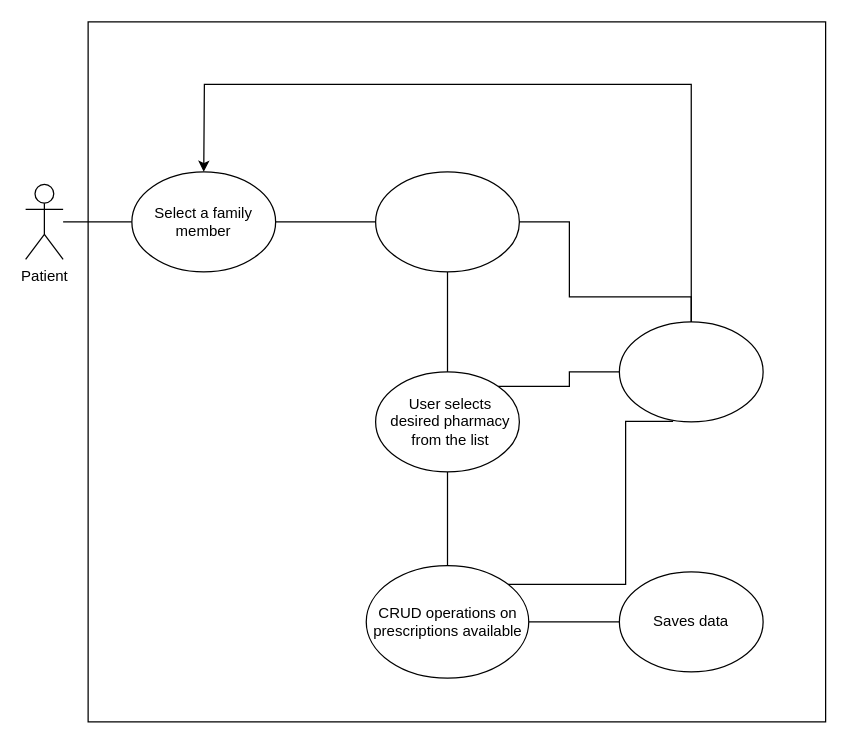
Image size: 848x744. Some labels were removed from this diagram. The shapes that lost their labels are listed below. From the top down, each one's centre as x and y in pixels, then its label:
At point (446, 221): "Navigate to prescription section".
At point (690, 371): "User cancels edit".
